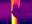Hotspot: (11, 13, 17, 23)
